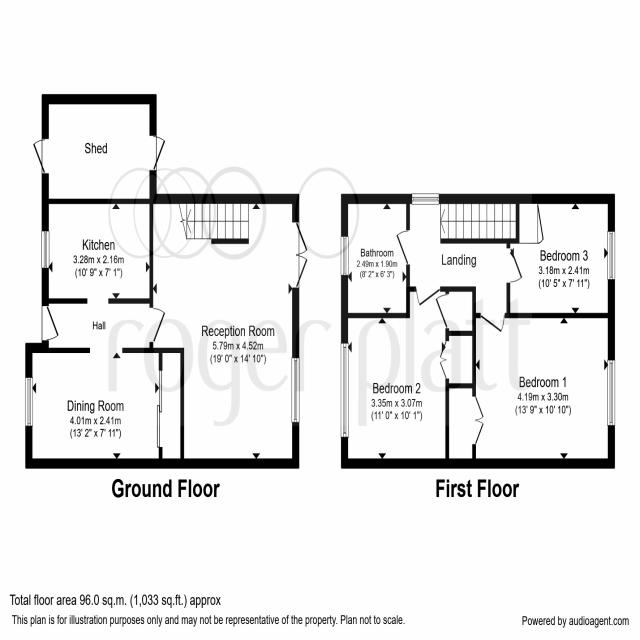DOOR: (41, 305, 60, 342), (149, 306, 166, 343), (506, 247, 523, 283), (395, 229, 410, 266), (415, 286, 441, 306), (480, 313, 505, 333)
DOUBLE DOOR: (292, 220, 309, 290)
ROOM: (149, 193, 309, 469), (445, 313, 615, 469), (341, 286, 476, 469), (25, 347, 184, 469), (506, 193, 615, 318), (41, 198, 154, 304)
WINDOW: (340, 342, 349, 438), (291, 357, 300, 423), (607, 359, 615, 426), (24, 376, 33, 427), (607, 231, 616, 281), (41, 229, 50, 270), (340, 236, 349, 276), (412, 193, 439, 205)
